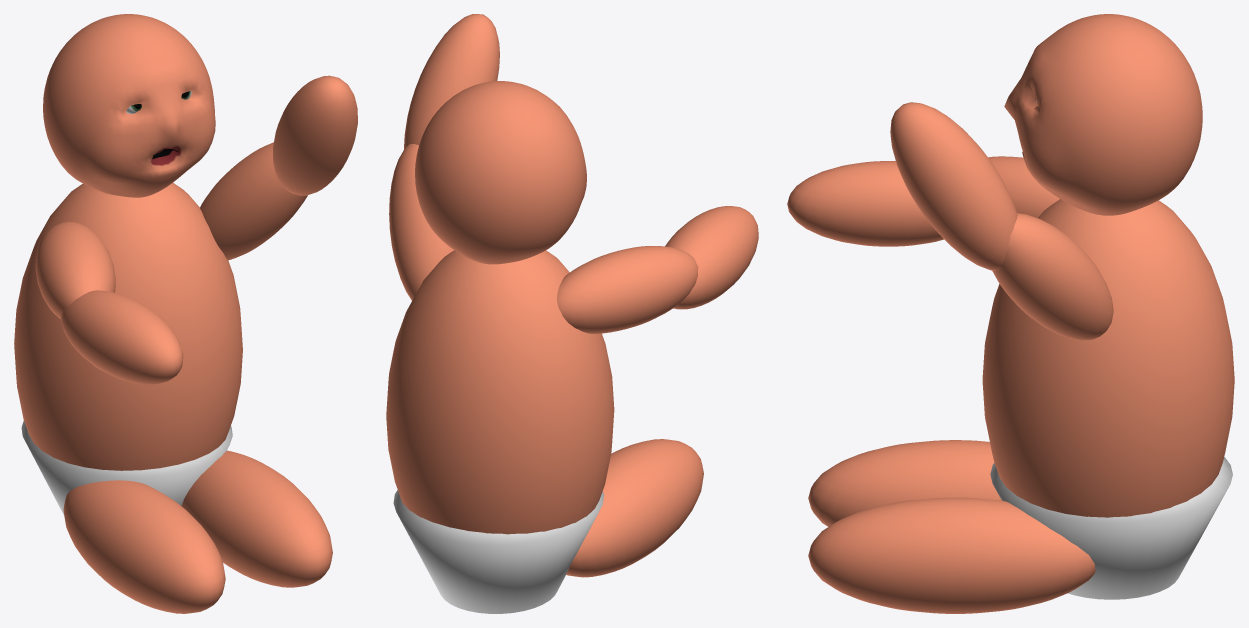
File: baby.glb
3 renders of one model, left to right at view 1: azimuth 30°, elevation 25°; view 2: azimuth 150°, elevation 25°; view 3: azimuth 270°, elevation 25°, orthographic. The views are drawn at different scales.
Visible parts, largest first — view 1: Body, Head, Diaper; view 2: Body, Head, Diaper; view 3: Body, Head, Diaper.
Boxes of the visible parts, x1=… form: Body: x1=14, y1=75, x2=357, y2=613; Head: x1=43, y1=14, x2=215, y2=197; Diaper: x1=21, y1=420, x2=232, y2=515; Body: x1=386, y1=14, x2=758, y2=577; Head: x1=415, y1=81, x2=586, y2=264; Diaper: x1=393, y1=490, x2=604, y2=613; Body: x1=787, y1=102, x2=1234, y2=613; Head: x1=1004, y1=14, x2=1202, y2=215; Diaper: x1=990, y1=457, x2=1232, y2=599.
Bounding box in the file's own units: 0.3965 × 0.6583 × 0.4784.
4 materials, 2 textured.
